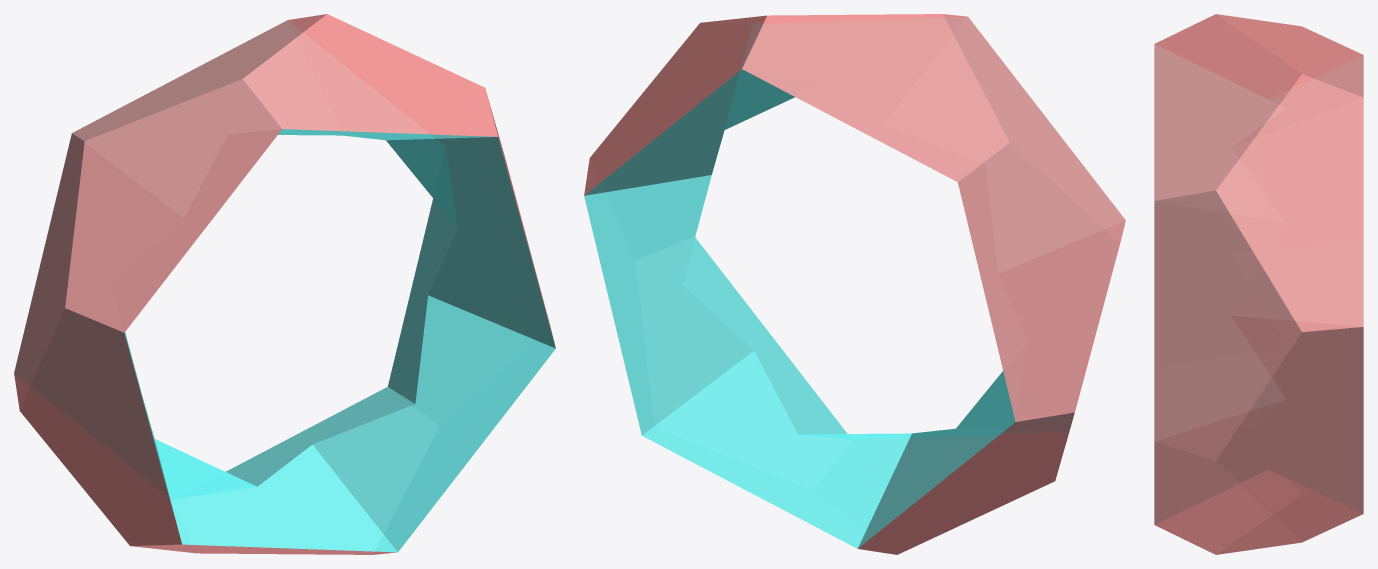
File: HexagonalTrapezohedronToroid.obj
3 renders of one model, left to right at view 1: azimuth 30°, elevation 25°; view 2: azimuth 150°, elevation 25°; view 3: azimuth 270°, elevation 25°, orthographic. The views are drawn at different scales.
Bounding box in the file's own units: 2.17 × 2.17 × 0.8556.
